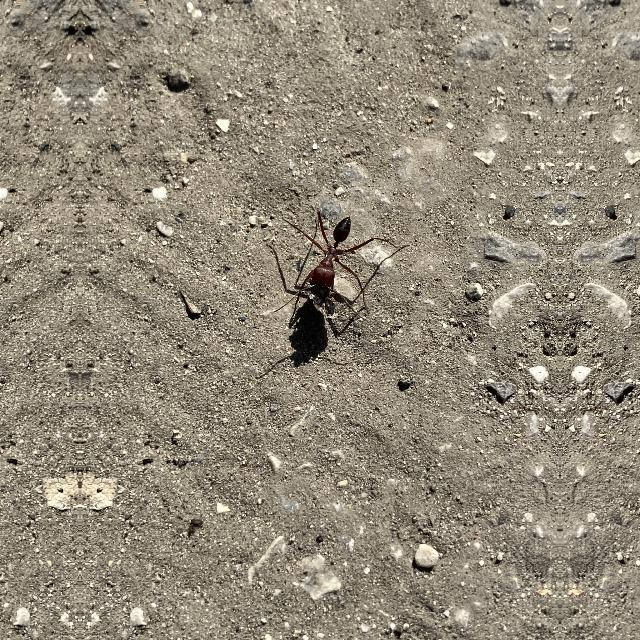Cataglyphis: (296, 207, 362, 306), (87, 268, 99, 278), (61, 268, 73, 278)
